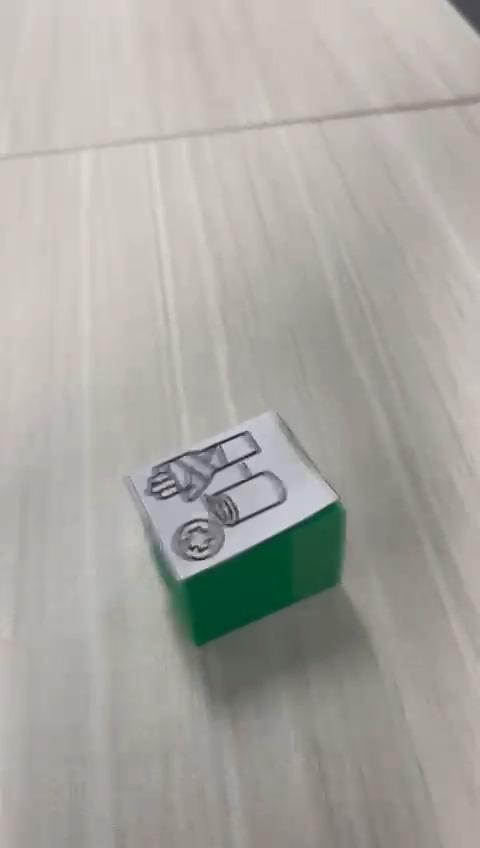Bandages: (126, 407, 349, 649)
